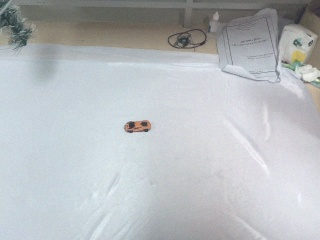toy_car: (124, 120, 151, 133)
